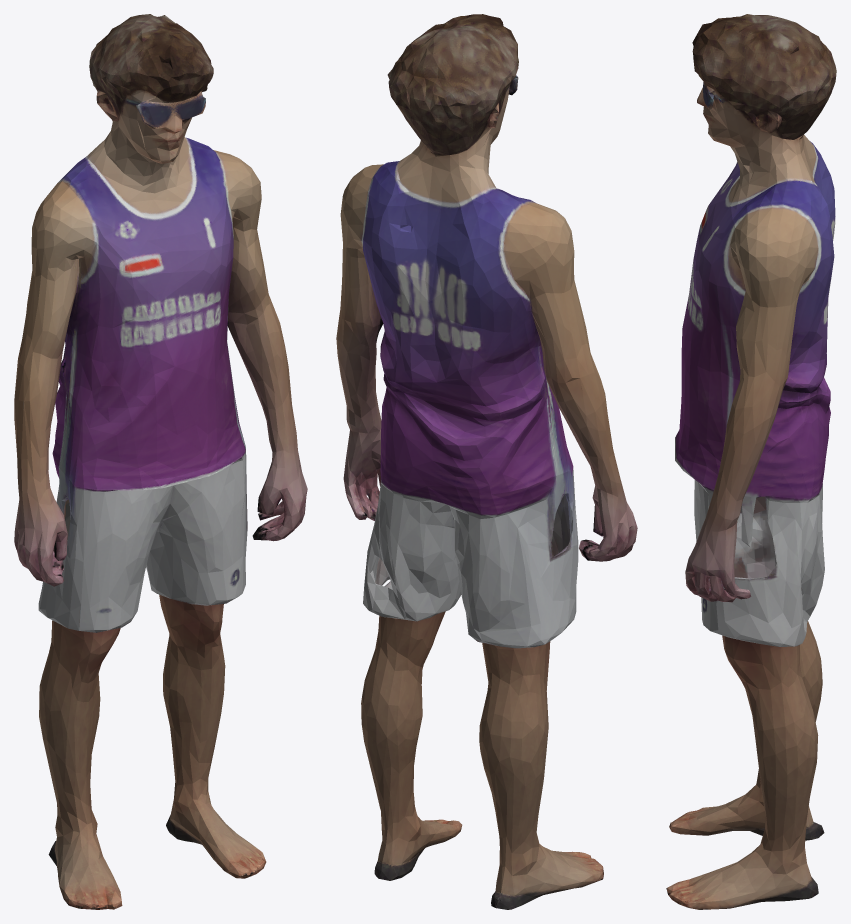
File: avatar.glb
The picture shows the model from 3 angles, left to right: view 1: azimuth 30°, elevation 25°; view 2: azimuth 150°, elevation 25°; view 3: azimuth 270°, elevation 25°; orthographic projection. The views are drawn at different scales.
Parts seen in each view (by area): view 1: world; view 2: world; view 3: world.
Part boxes in pixels (<box>): world: <box>14,14,307,909</box>; world: <box>336,14,637,909</box>; world: <box>666,14,836,909</box>.
Size of the model in its own units: 0.3518 by 1 by 0.1815.
Materials: 1 (1 with a texture image).
